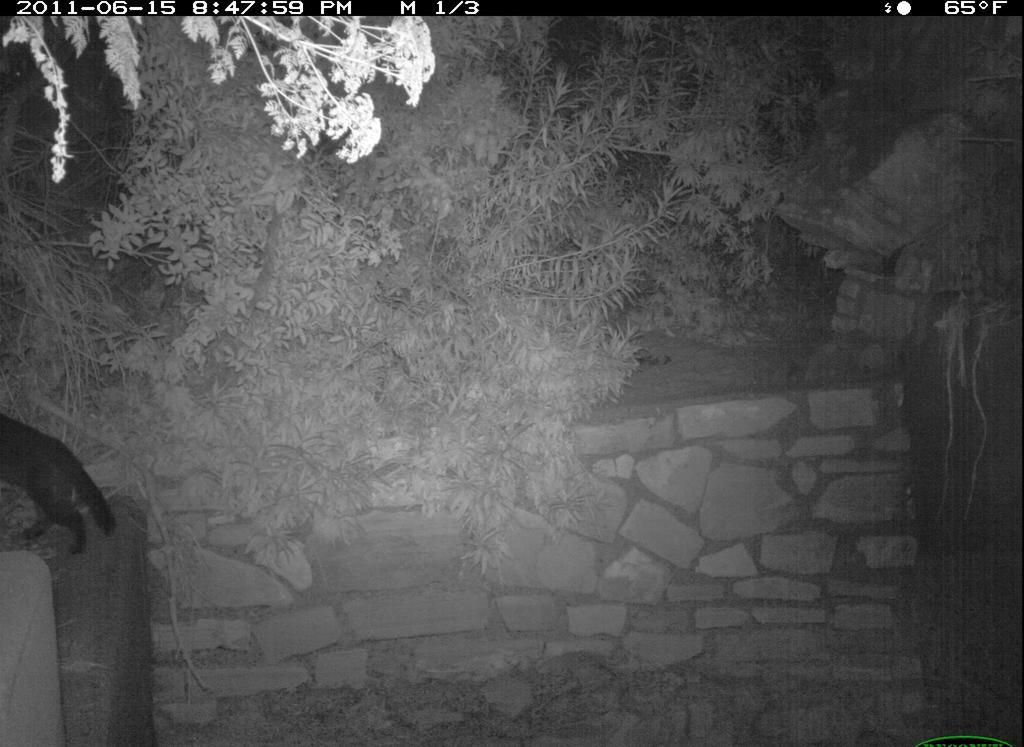cat: (2, 400, 129, 564)
